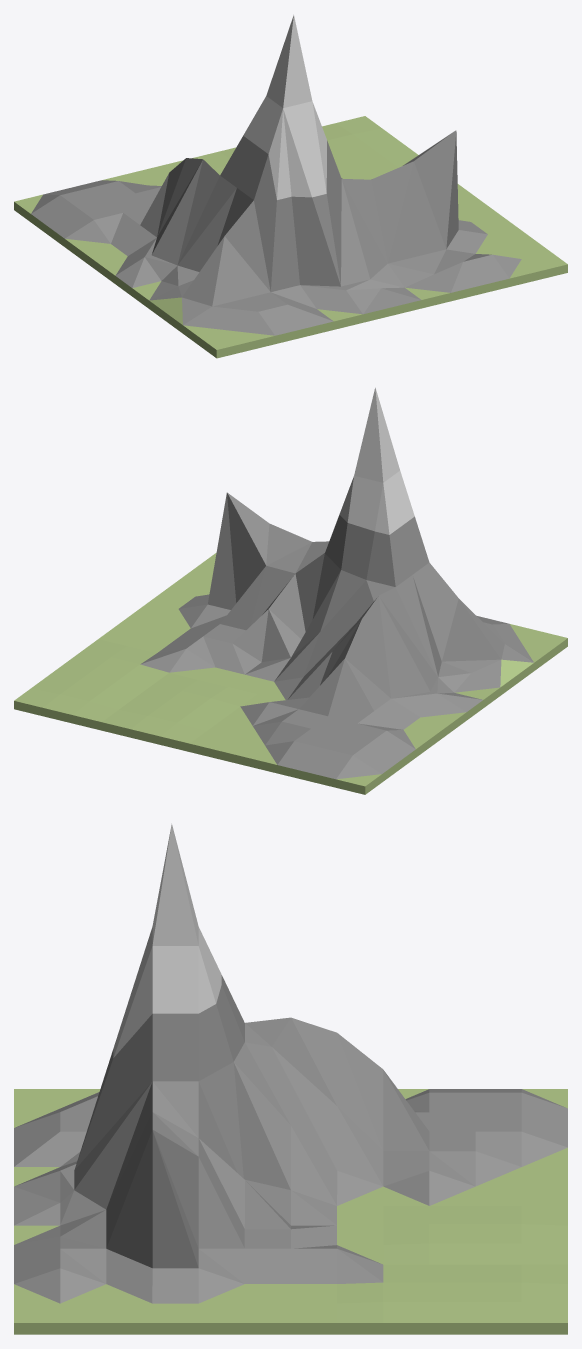
File: Mountain II.fbx
The picture shows the model from 3 angles, top to bottom: view 1: azimuth 30°, elevation 25°; view 2: azimuth 150°, elevation 25°; view 3: azimuth 270°, elevation 25°; orthographic projection. The views are drawn at different scales.
Parts seen in each view (by area): view 1: Mountain II; view 2: Mountain II; view 3: Mountain II.
Part boxes in pixels (x1=…): Mountain II: x1=14, y1=15, x2=567, y2=358; Mountain II: x1=14, y1=387, x2=567, y2=794; Mountain II: x1=14, y1=823, x2=567, y2=1334.
Bounding box in the file's own units: 1600 × 1170 × 1600.
